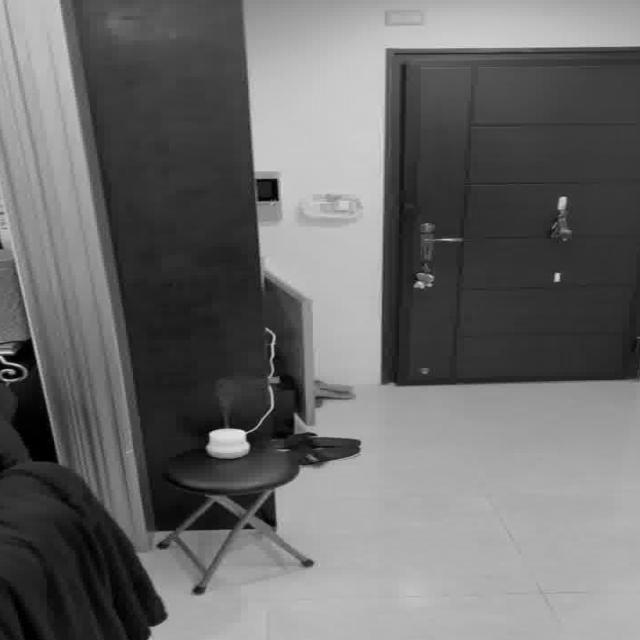fire: (204, 372, 258, 419)
